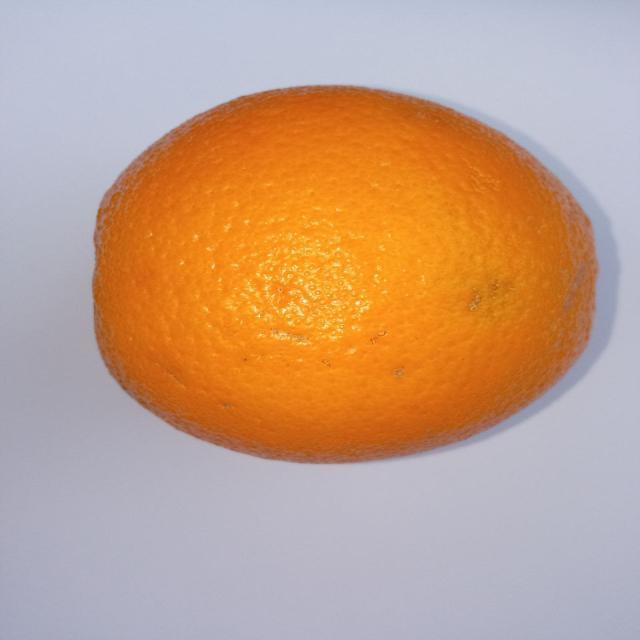fresh_orange: (90, 87, 594, 465)
